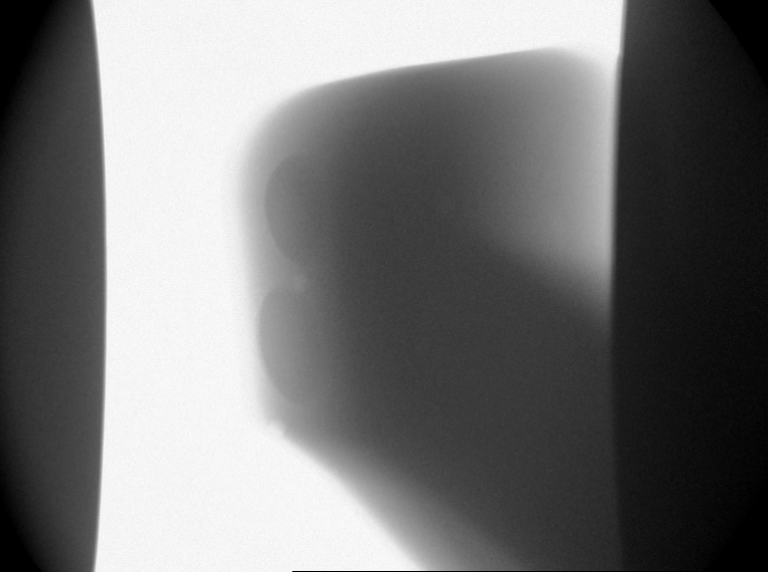defect: (265, 416, 290, 442)
